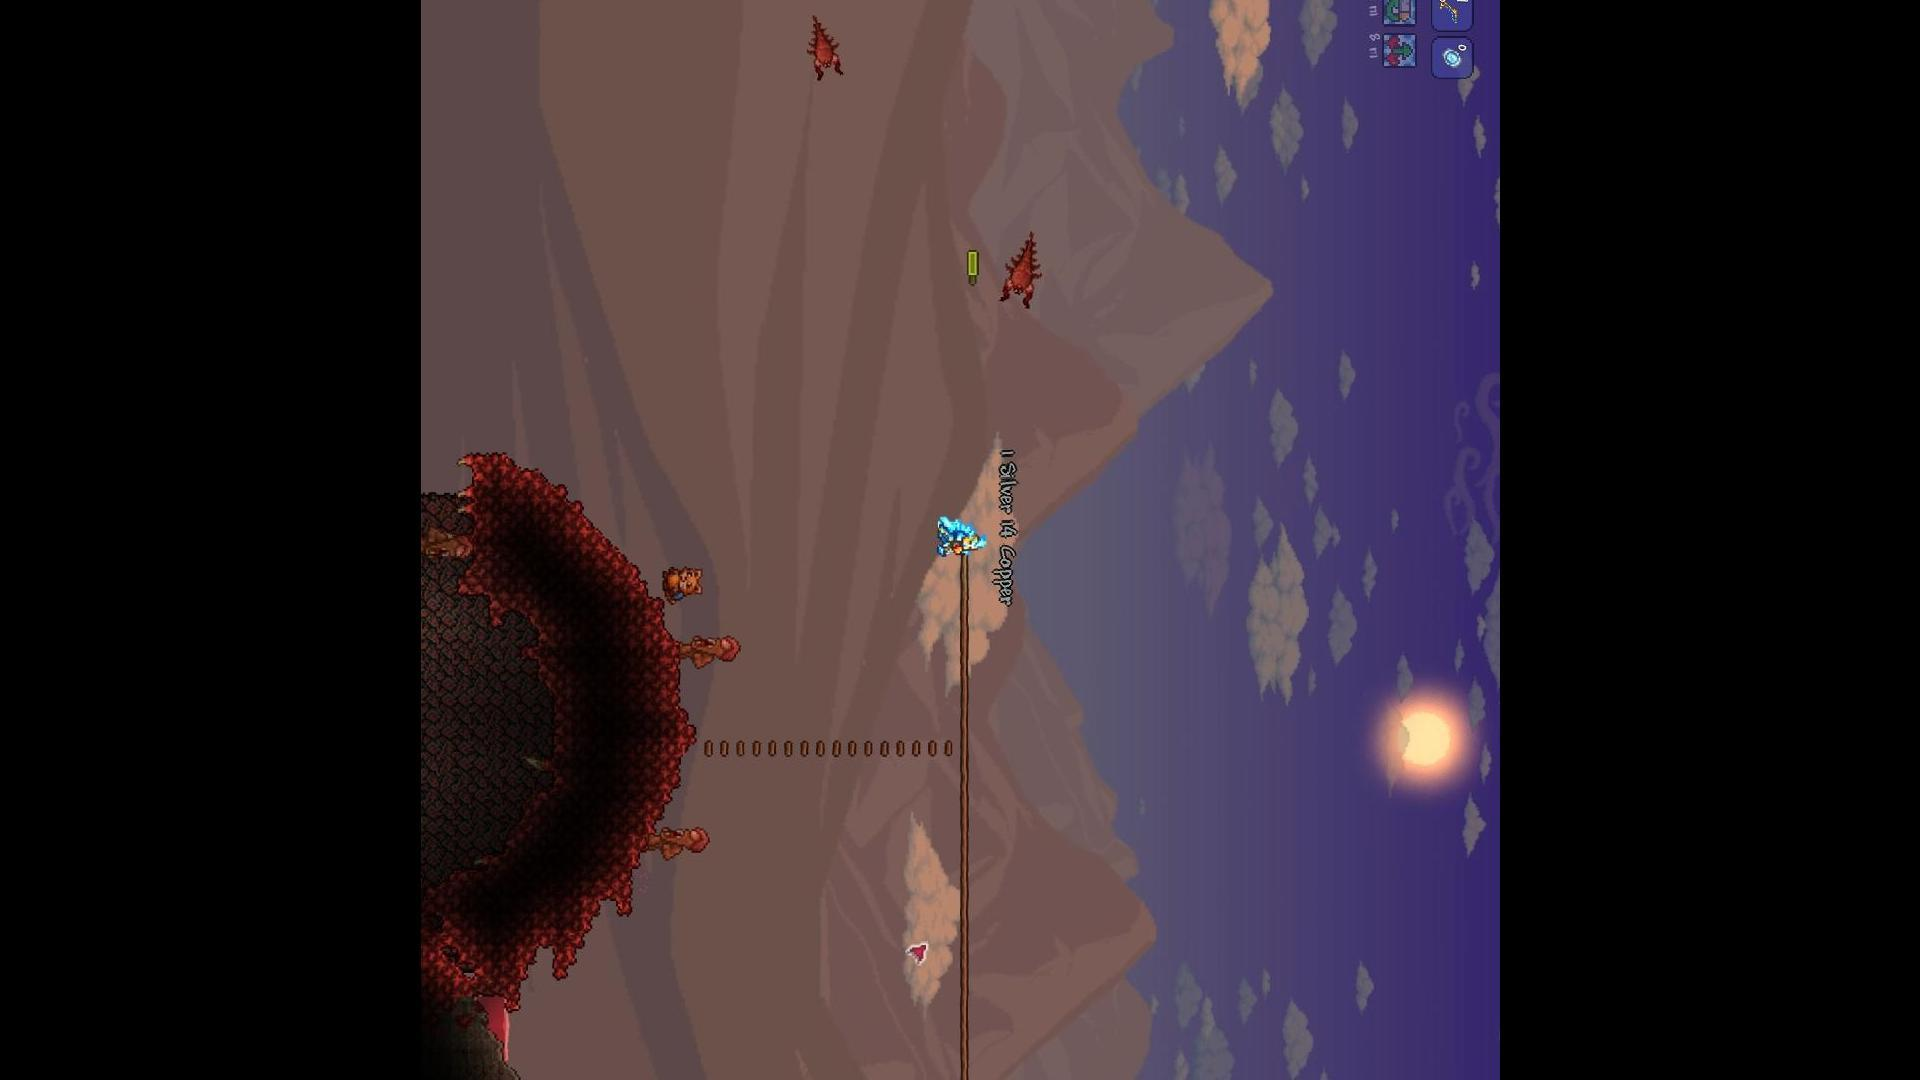crimera: (996, 228, 1044, 314), (803, 17, 853, 86)
